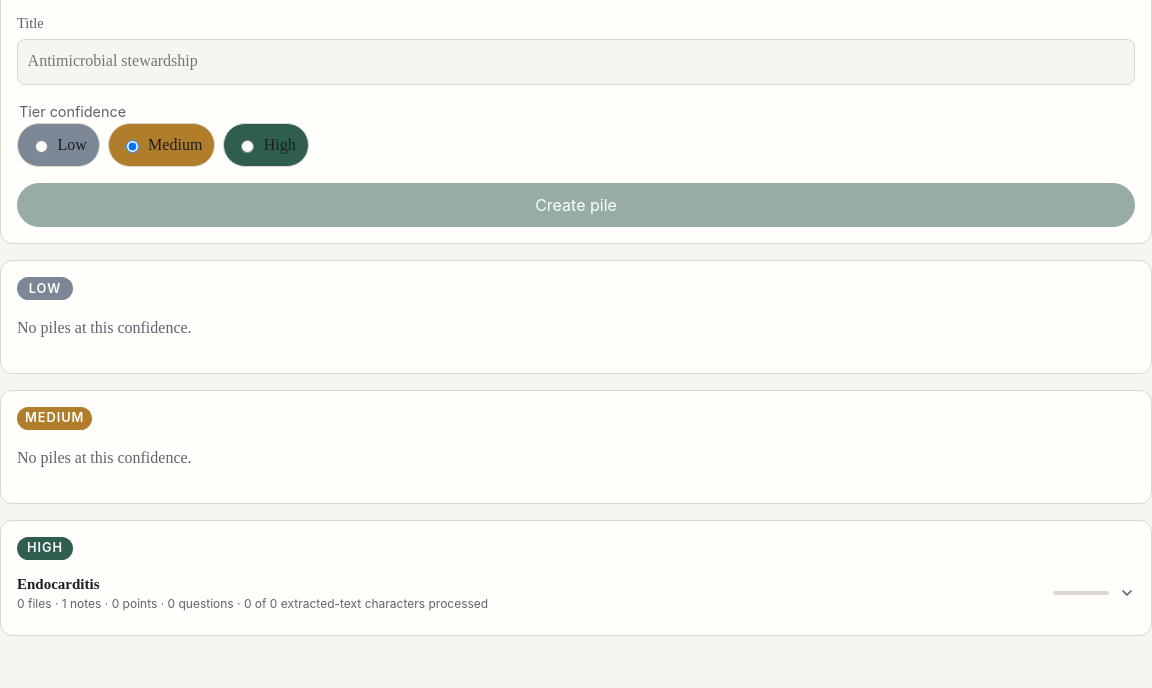
Test case: the body draft › comes back when the panel is opened again
The width and height of the screenshot is (1152, 688).
Click the button "Endocarditis". click: (58, 584)
box: top-left (17, 568), bottom-right (1135, 619)
(page scrolled)
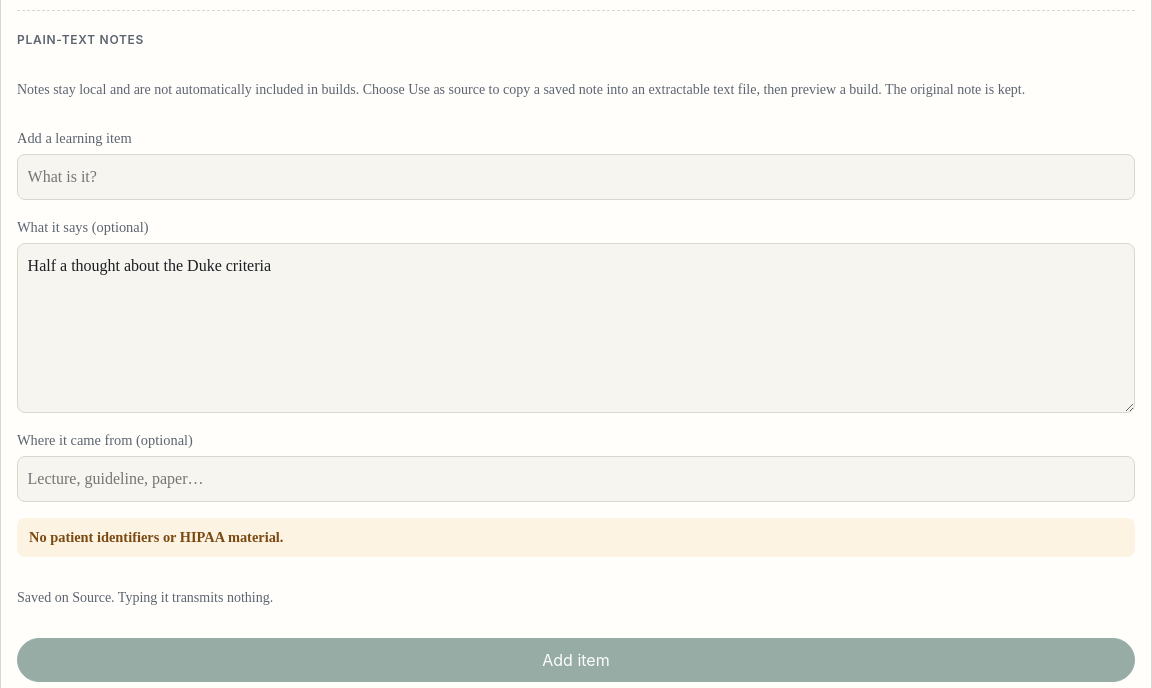
Expected: the text box labelled "What it says (optional)" holds "Half a thought about the Duke criteria", top-left (17, 243), bottom-right (1135, 413)
